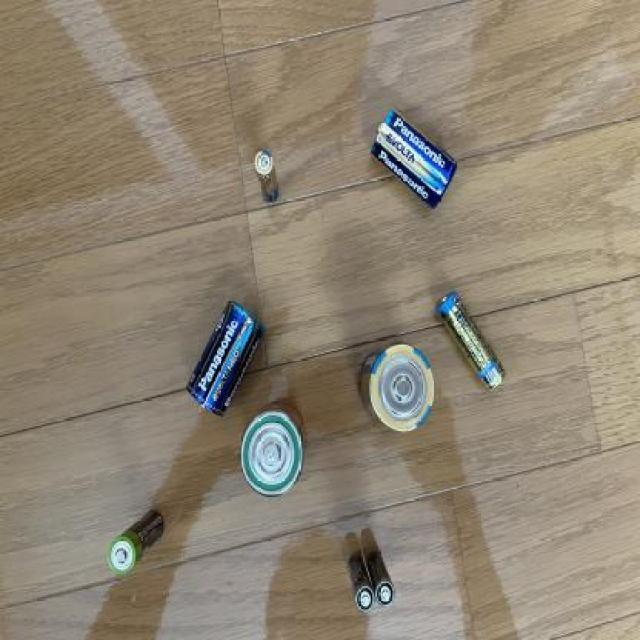hazardous waste: (186, 296, 268, 422), (371, 104, 462, 212), (357, 337, 437, 437), (438, 290, 509, 398), (238, 398, 310, 498), (109, 509, 168, 574), (364, 544, 398, 614), (344, 550, 376, 612), (253, 148, 284, 205)
